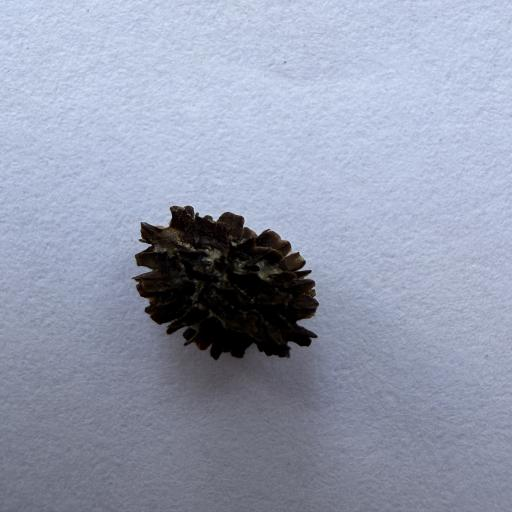papaya_seed: (102, 184, 367, 376)
